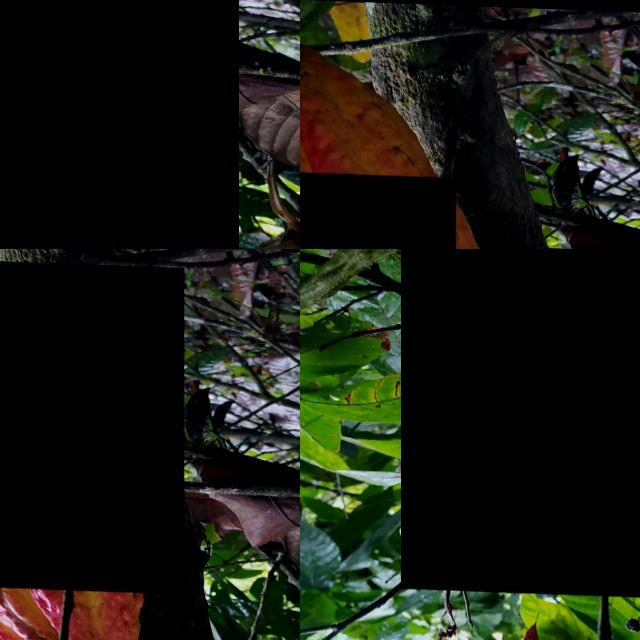Fitoftora: (300, 170, 456, 249)
Monilia: (0, 257, 184, 590)
Sana: (401, 249, 640, 595), (0, 0, 239, 249), (303, 38, 349, 100), (534, 104, 563, 159)
